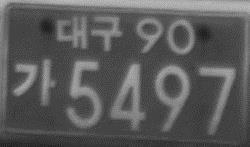0: (166, 16, 195, 55)
4: (109, 61, 148, 134)
5: (65, 58, 103, 129)
7: (197, 64, 236, 138)
9: (152, 63, 191, 133), (136, 15, 163, 54)
가: (11, 57, 56, 111)
대구_O: (54, 13, 124, 52)
